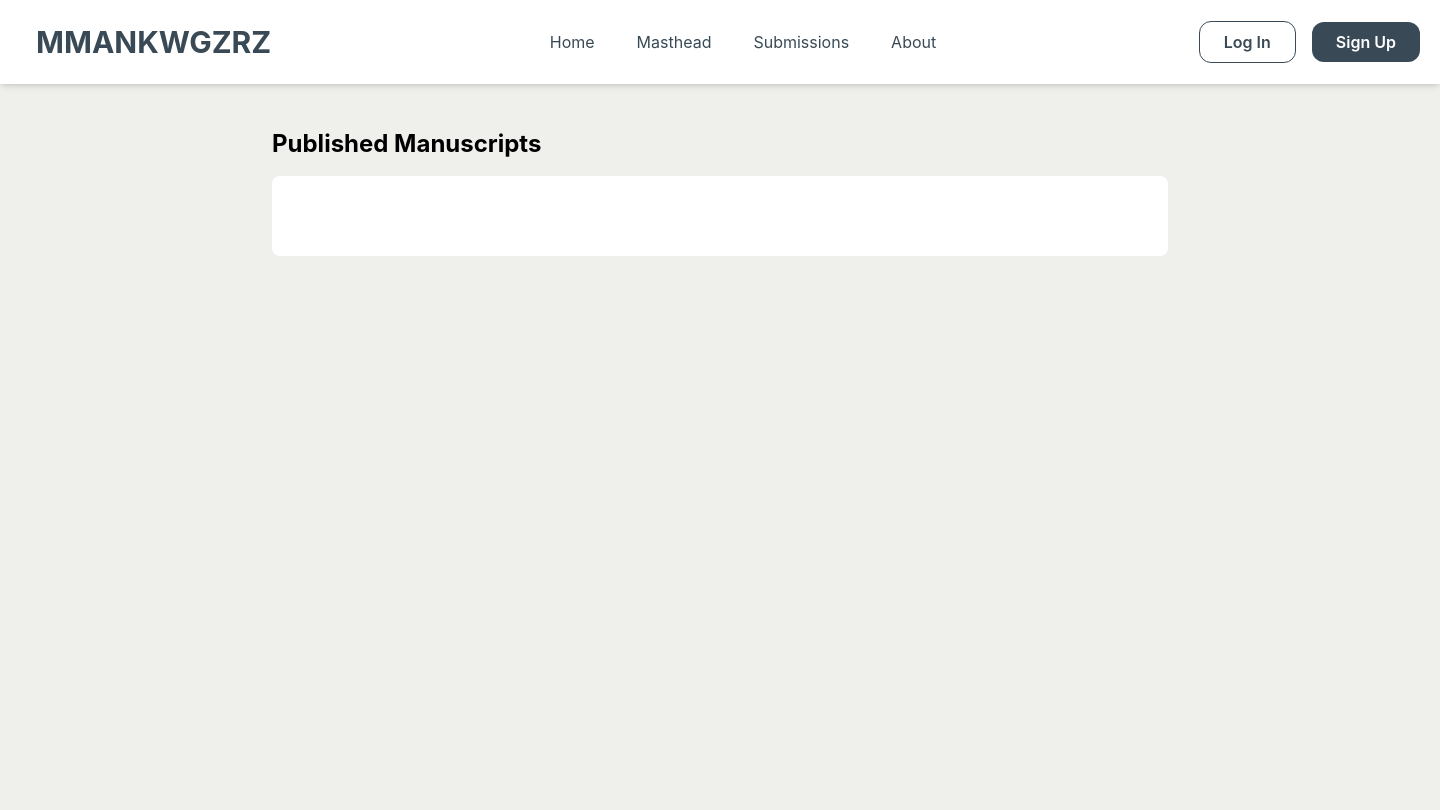
Test case: App (guest view) › renders login page
Click the link "Log In". click: (1247, 42)
box: [1199,21,1296,63]
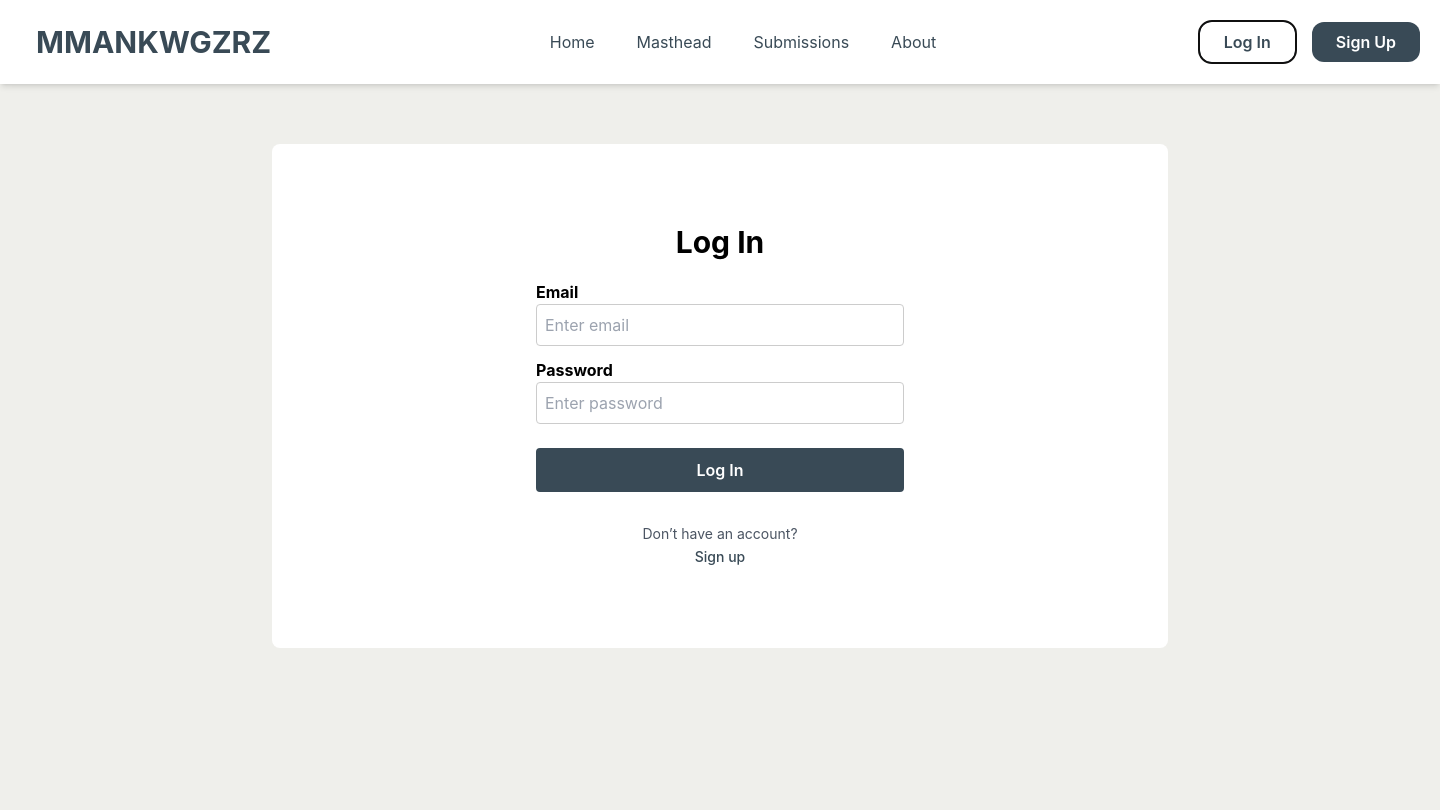
Expected: the field labelled "Email" is shown, [536,304,904,346]
Expected: the password field labelled "Password" is shown, [536,382,904,424]
Expected: the button "Log In" is shown, [536,448,904,492]
